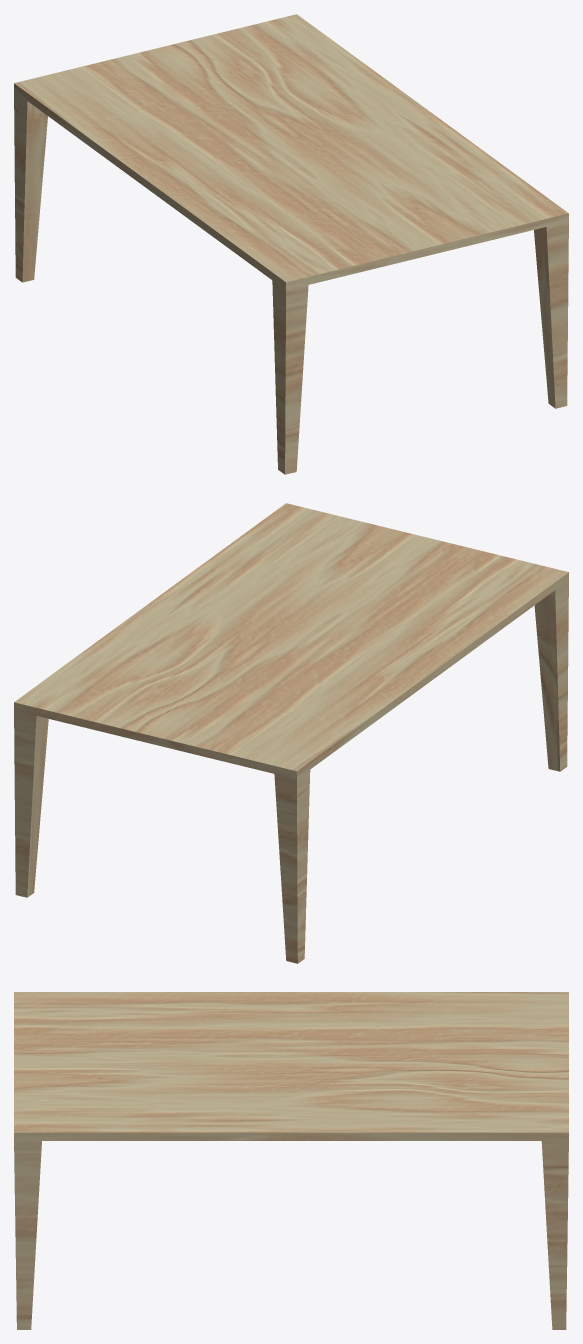
The model's file is Table.obj.
3 renders of one model, top to bottom at view 1: azimuth 30°, elevation 25°; view 2: azimuth 150°, elevation 25°; view 3: azimuth 270°, elevation 25°, orthographic.
Visible parts, largest first — view 1: Cube; view 2: Cube; view 3: Cube.
Part boxes in pixels (x1,y1,x2,y2): Cube: [14, 14, 568, 474]; Cube: [14, 503, 568, 963]; Cube: [14, 992, 568, 1329].
Size of the model in its own units: 2 by 1.31 by 3.33.
